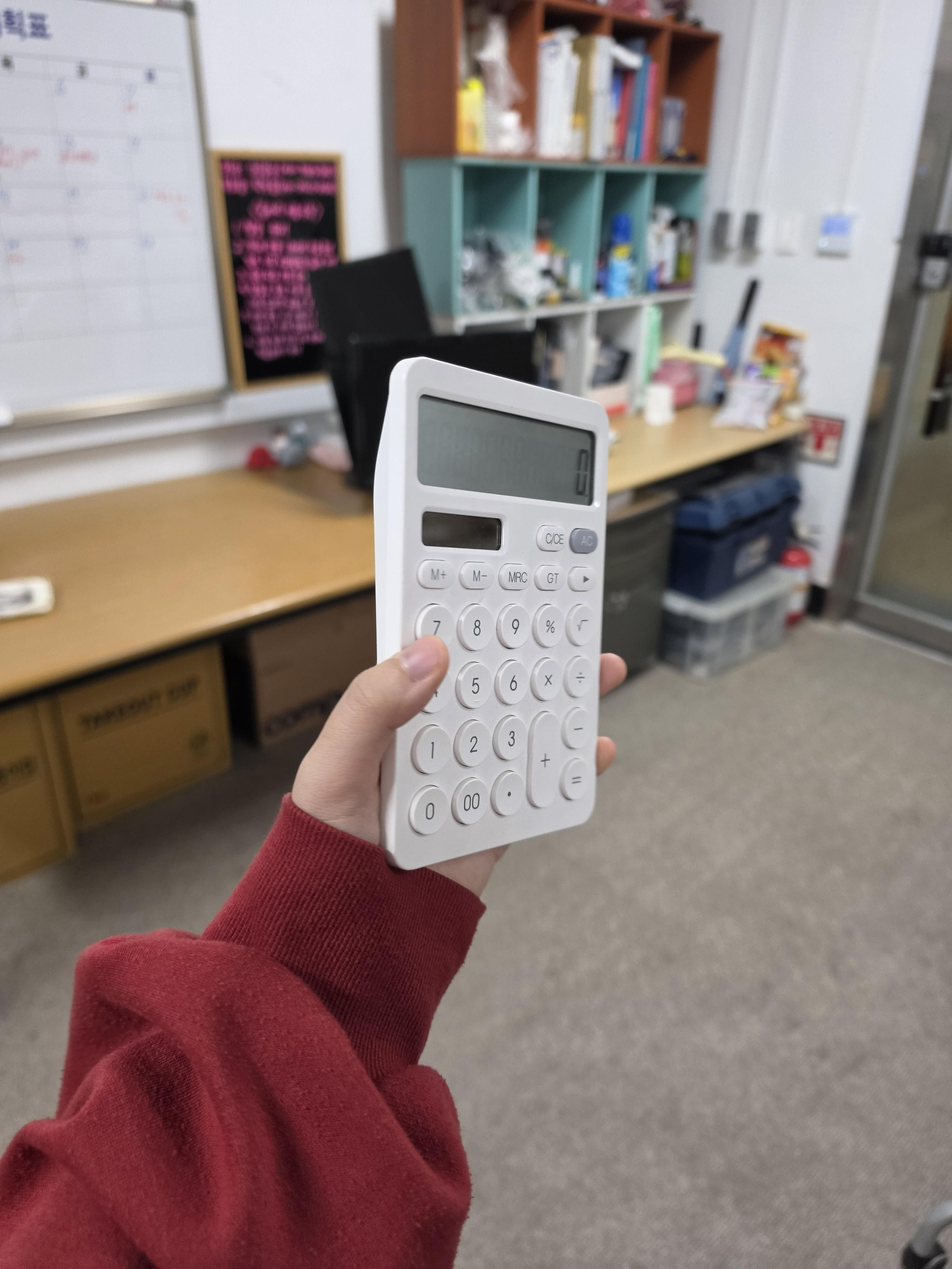calculator: (373, 357, 609, 871)
